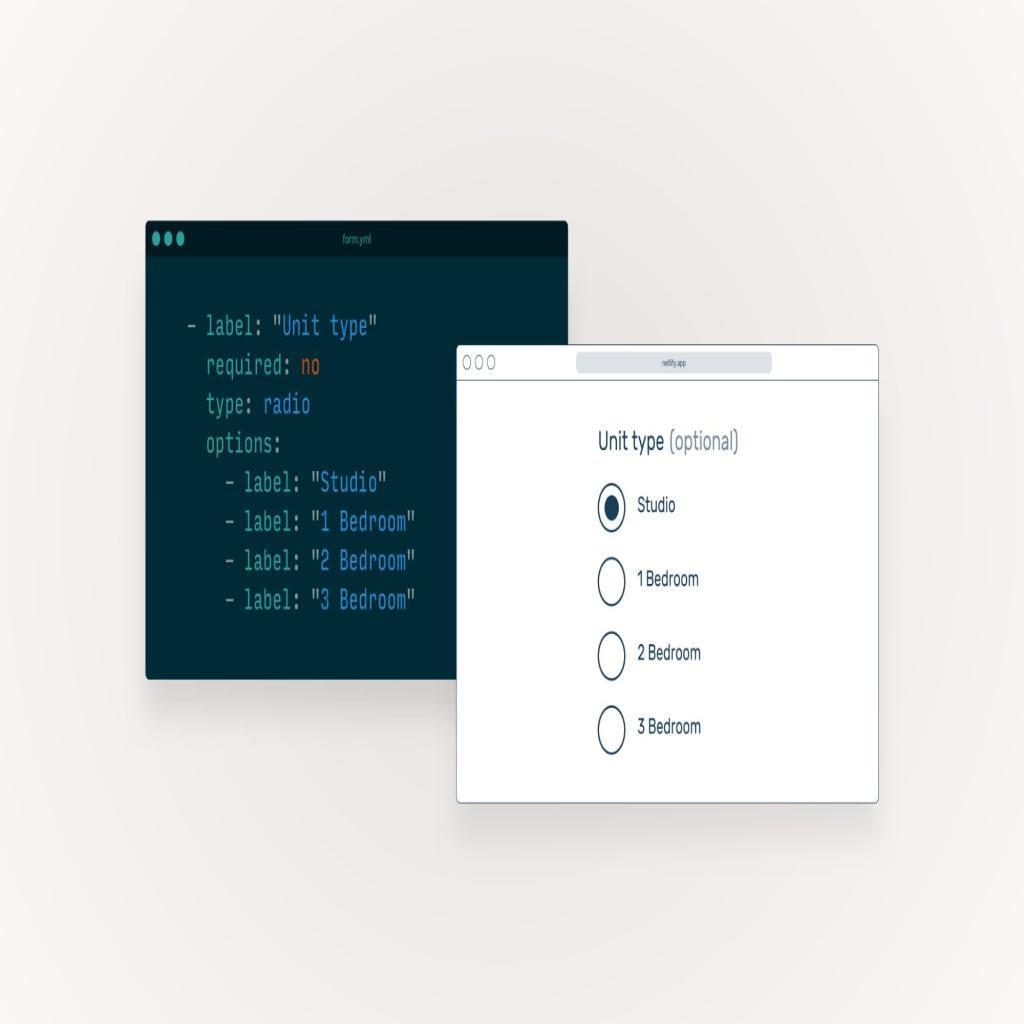label: (598, 429, 740, 456), (637, 716, 704, 737), (636, 643, 703, 663), (638, 570, 701, 589), (636, 496, 677, 516)
radio: (597, 482, 628, 534), (597, 631, 628, 683), (598, 704, 628, 756), (598, 557, 627, 609)
